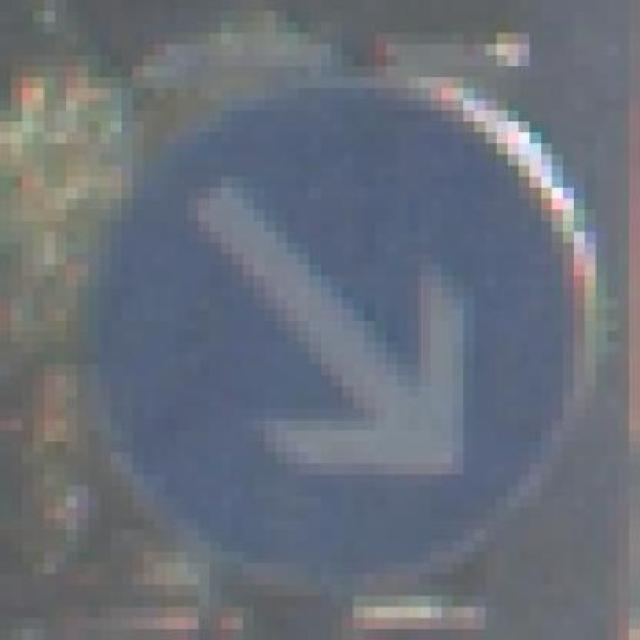Keep-Right: (56, 66, 618, 608)
